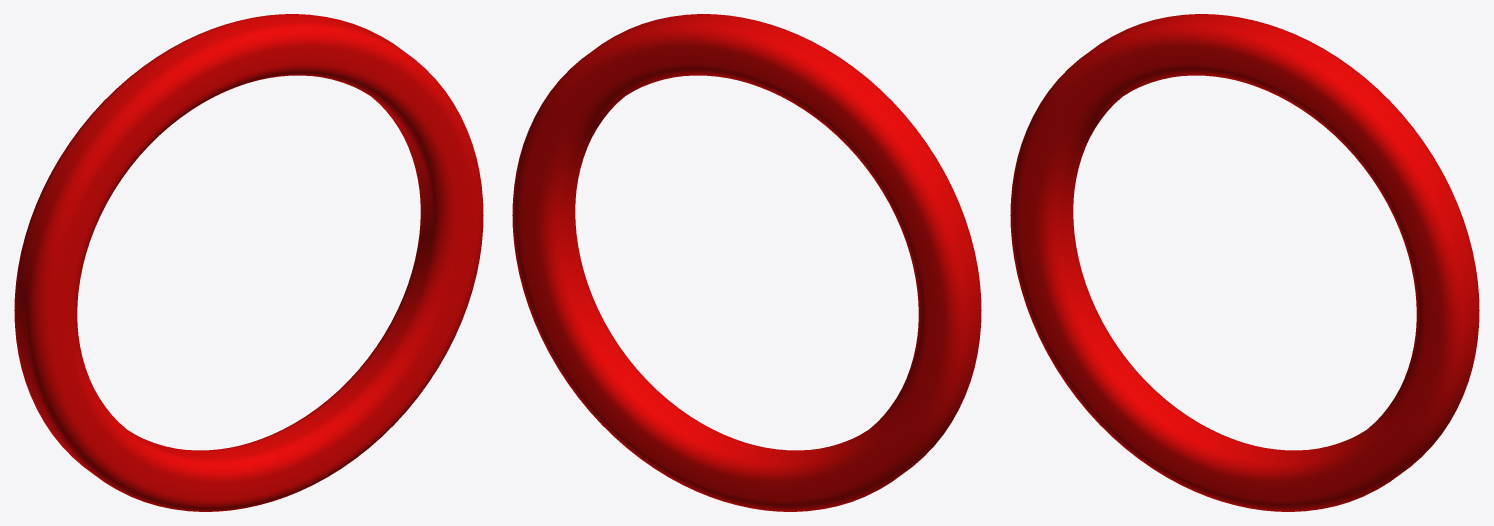
File: circuloquestion.gltf
3 views of the same model, side by side, from view 1: azimuth 30°, elevation 25°; view 2: azimuth 150°, elevation 25°; view 3: azimuth 330°, elevation 25° (orthographic).
Visible parts, largest first — view 1: NurbsCircle; view 2: NurbsCircle; view 3: NurbsCircle.
Boxes of the visible parts, x1,y1,x2,y2 form: NurbsCircle: [14, 14, 483, 511]; NurbsCircle: [512, 14, 981, 511]; NurbsCircle: [1010, 14, 1479, 511].
Bounding box in the file's own units: 18.72 × 18.72 × 2.
